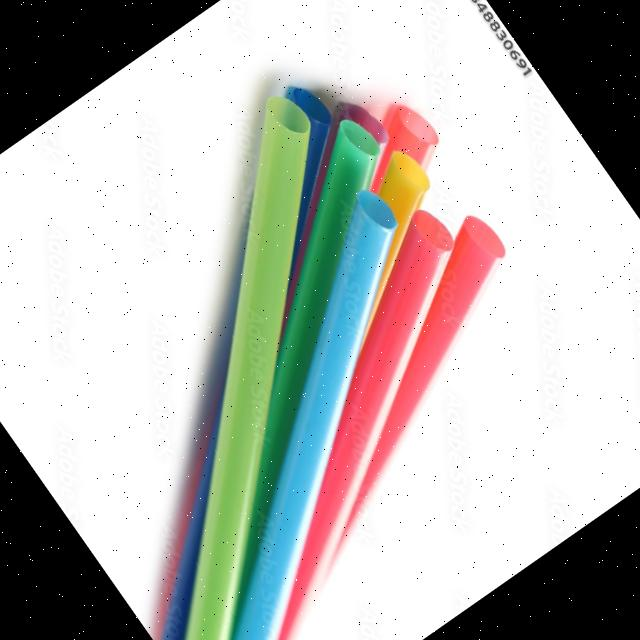plastic: (0, 49, 489, 618)
